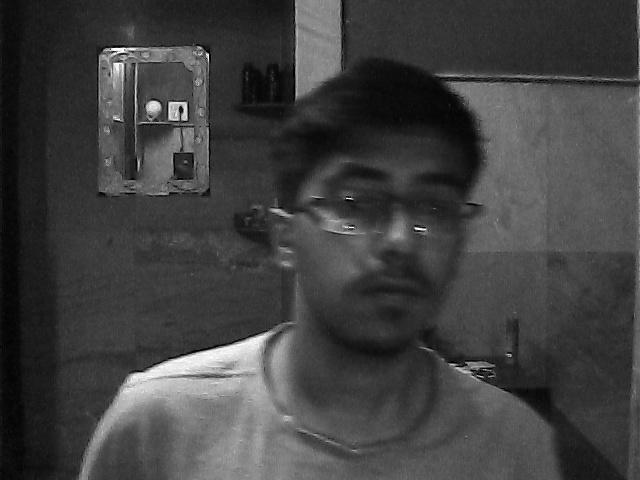nomask: (291, 110, 462, 357)
